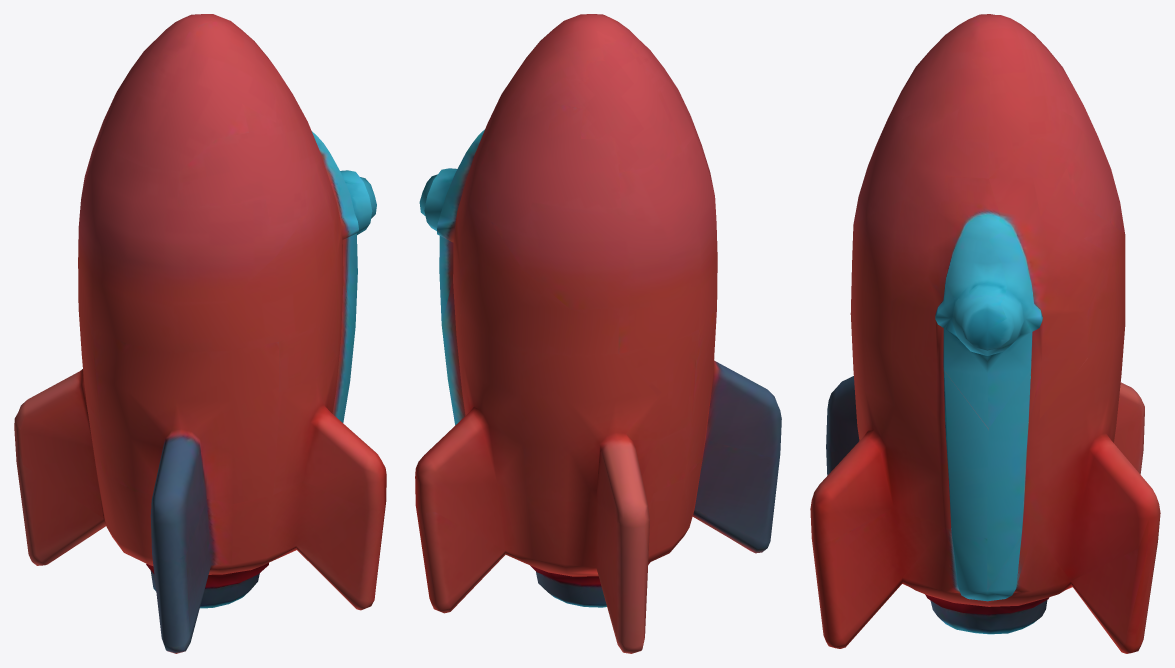
Rendered from skill-rocket.glb.
3 views of the same model, side by side, from view 1: azimuth 30°, elevation 25°; view 2: azimuth 150°, elevation 25°; view 3: azimuth 270°, elevation 25° (orthographic). The views are drawn at different scales.
Parts seen in each view (by area): view 1: tripo_node_3a0eaabc-2d94-4b94-828b-136e02b1d632; view 2: tripo_node_3a0eaabc-2d94-4b94-828b-136e02b1d632; view 3: tripo_node_3a0eaabc-2d94-4b94-828b-136e02b1d632.
Boxes of the visible parts, box(x1,y1,x2,y2) form: tripo_node_3a0eaabc-2d94-4b94-828b-136e02b1d632: box(14, 14, 386, 653); tripo_node_3a0eaabc-2d94-4b94-828b-136e02b1d632: box(415, 14, 781, 653); tripo_node_3a0eaabc-2d94-4b94-828b-136e02b1d632: box(810, 14, 1160, 653).
Size of the model in its own units: 0.5137 by 0.998 by 0.5254.
Materials: 1 (1 with a texture image).
